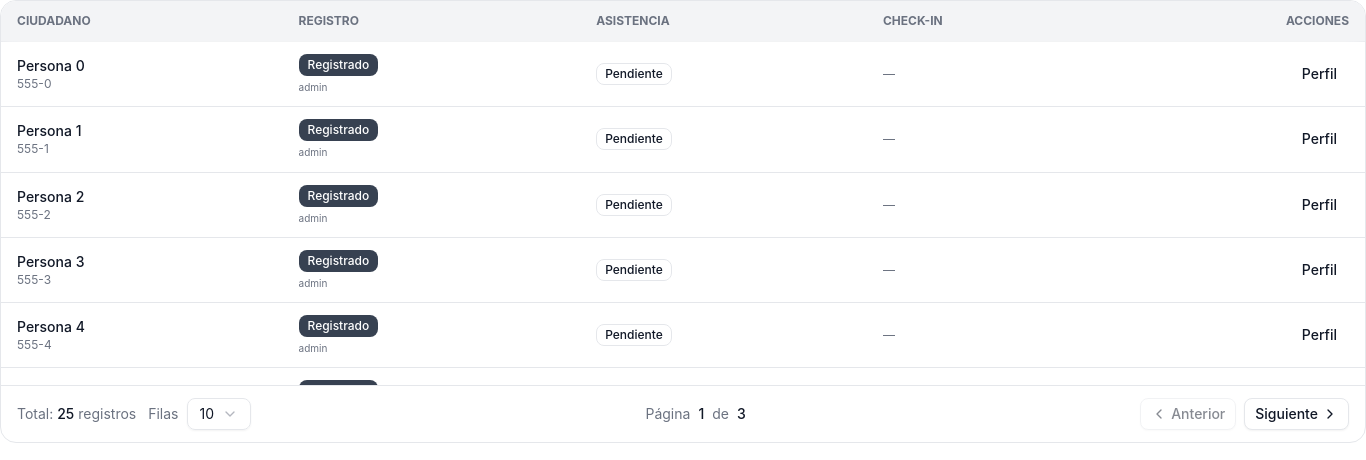
it: EventRegistrationsTable › clamps to the last available page when the list shrinks
This screenshot has width=1366, height=460.
Later steps or results of the test are not shown.
What coordinates should you click on to do the following:
click the button "Siguiente"
I would click on:
 (1297, 414)
Its box is [1244, 398, 1349, 430].
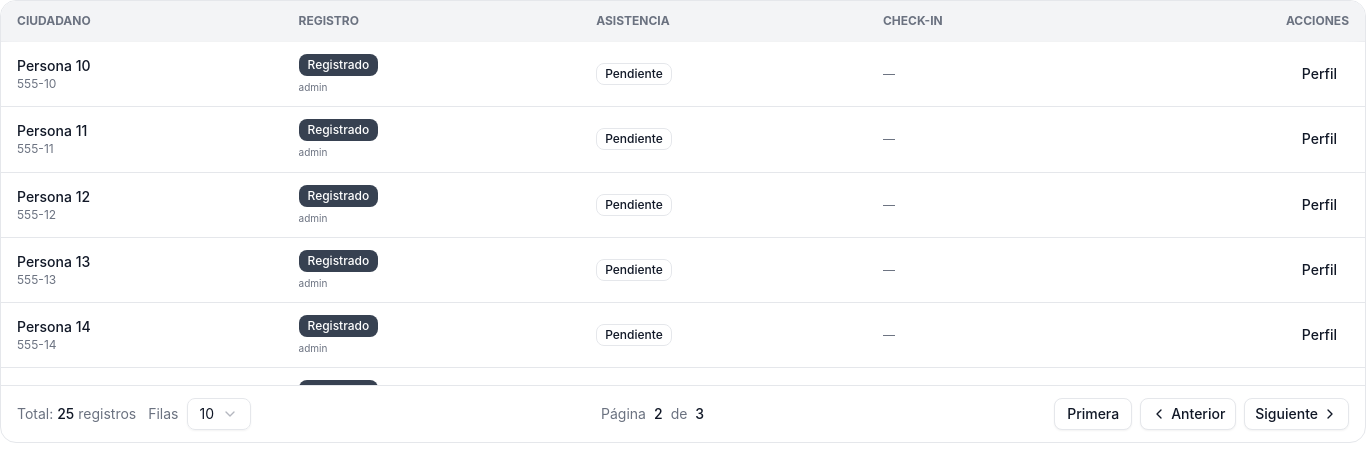
What coordinates should you click on to do the following:
click the button "Siguiente"
I would click on:
 (1297, 414)
Its box is [1244, 398, 1349, 430].
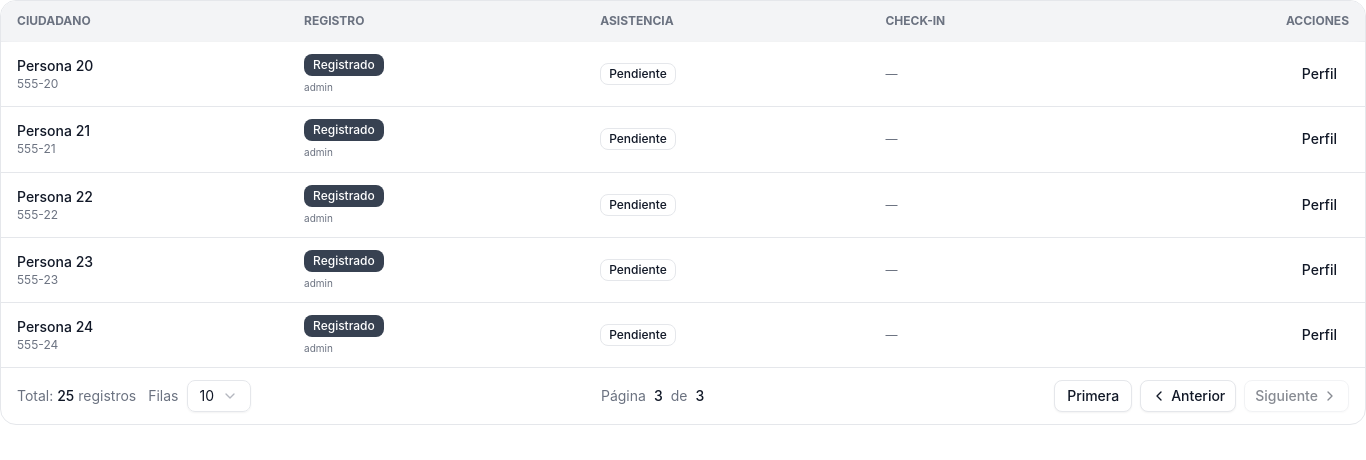
expect the text "Persona 20" is shown: met, box [17, 57, 93, 74]
